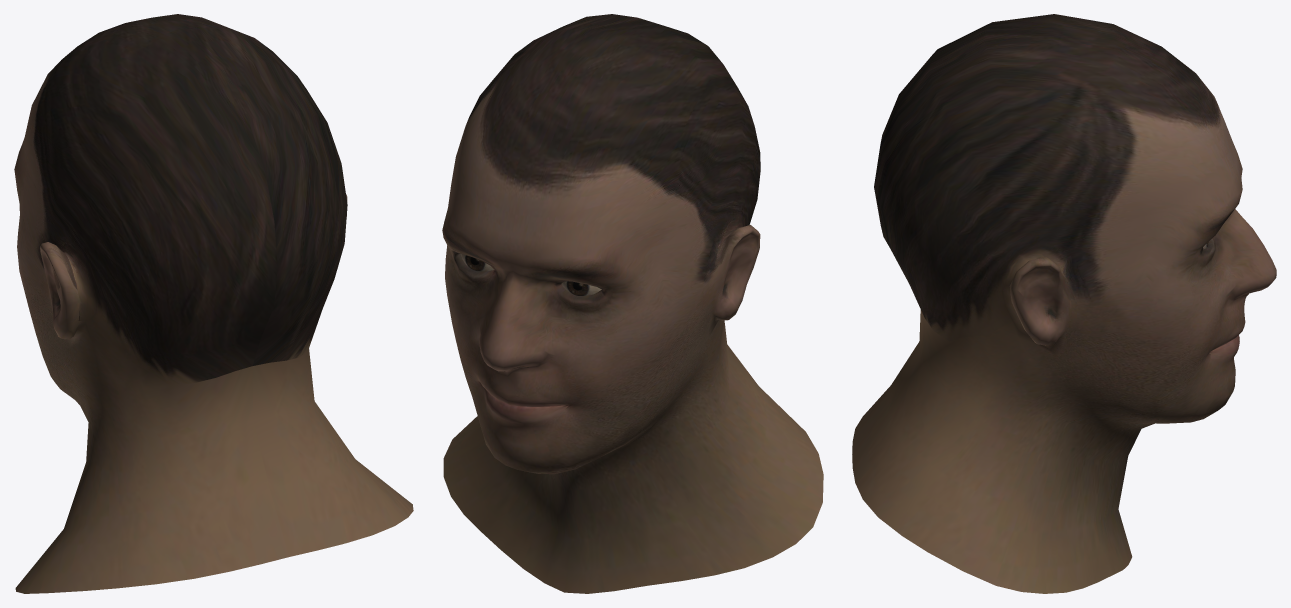
File: G3_Head_Hero_Myrtana_Animated_07_S00.obj
The picture shows the model from 3 angles, left to right: view 1: azimuth 30°, elevation 25°; view 2: azimuth 150°, elevation 25°; view 3: azimuth 270°, elevation 25°; orthographic projection. The views are drawn at different scales.
Parts seen in each view (by area): view 1: G3_Animation_Head_Main_07; view 2: G3_Animation_Head_Main_07; view 3: G3_Animation_Head_Main_07.
Part boxes in pixels (x1,y1,x2,y2): G3_Animation_Head_Main_07: (14,14,413,593); G3_Animation_Head_Main_07: (442,14,823,593); G3_Animation_Head_Main_07: (852,14,1276,593).
Size of the model in its own units: 0.2515 by 0.3537 by 0.257.
